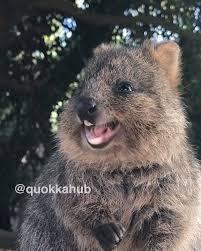quokka: (18, 33, 196, 251)
